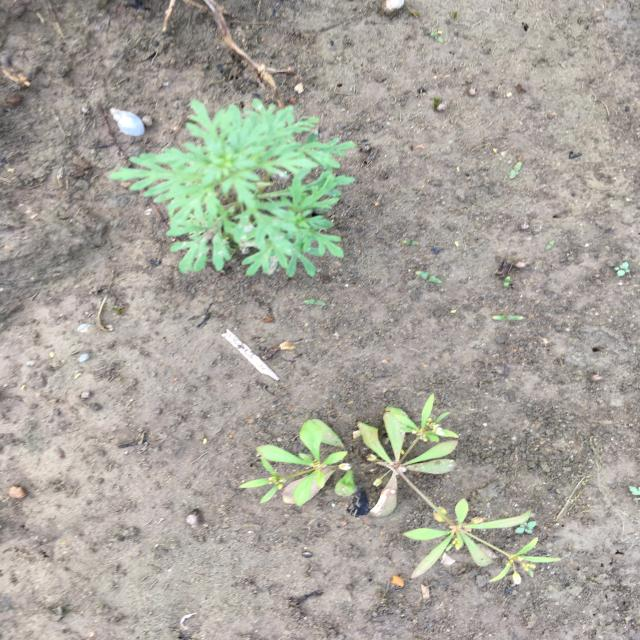Carpetweed: (236, 392, 564, 586)
Ragweed: (105, 98, 359, 281)
